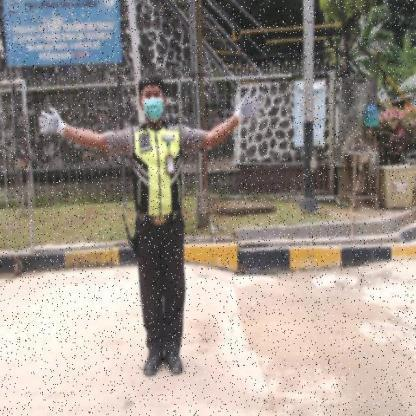boots: (140, 349, 164, 380), (164, 352, 186, 379)
gloves: (231, 86, 265, 127), (35, 104, 70, 142)
mask: (144, 99, 164, 121)
